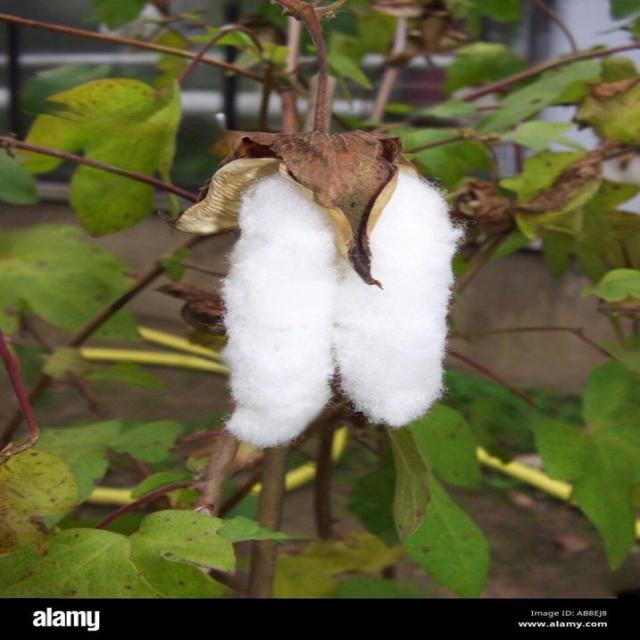Late_blight: (167, 105, 484, 458)
